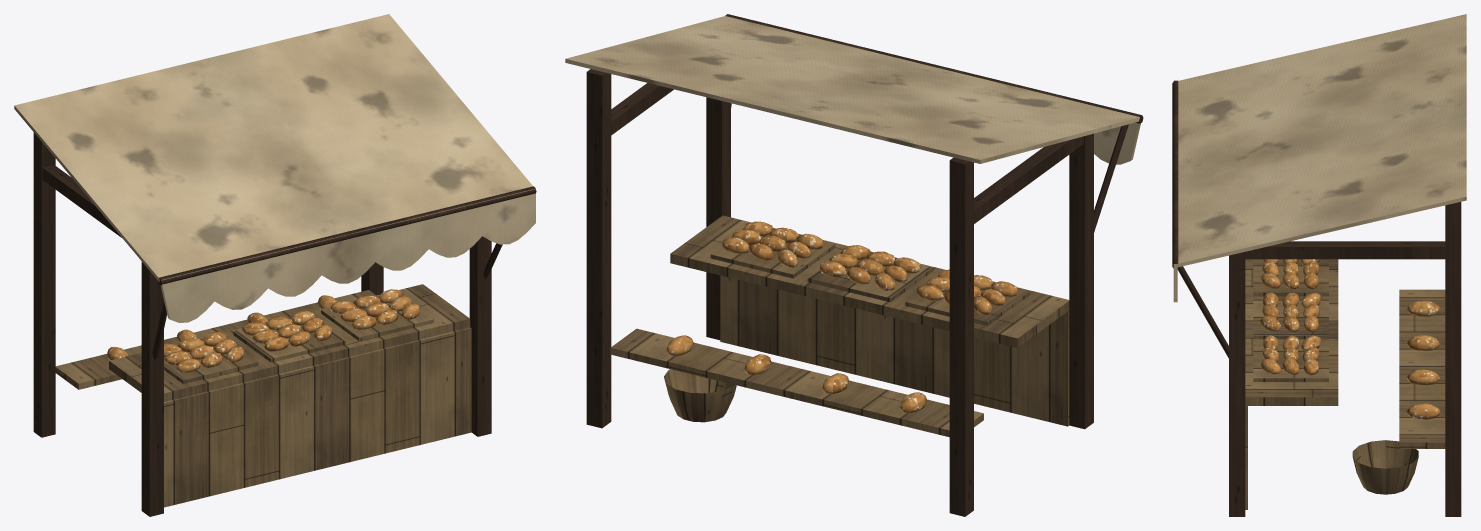
File: market_stall_bread.gltf
3 renders of one model, left to right at view 1: azimuth 30°, elevation 25°; view 2: azimuth 150°, elevation 25°; view 3: azimuth 270°, elevation 25°, orthographic. The views are drawn at different scales.
Parts seen in each view (by area): view 1: INT_stall_bread; view 2: INT_stall_bread; view 3: INT_stall_bread.
Boxes of the visible parts, x1,y1,x2,y2 form: INT_stall_bread: (14, 14, 536, 516); INT_stall_bread: (565, 14, 1143, 516); INT_stall_bread: (1172, 14, 1466, 516).
Size of what is drawn, in the model's own units: 3.2 by 2.68 by 2.18.
4 materials, 4 textured.
